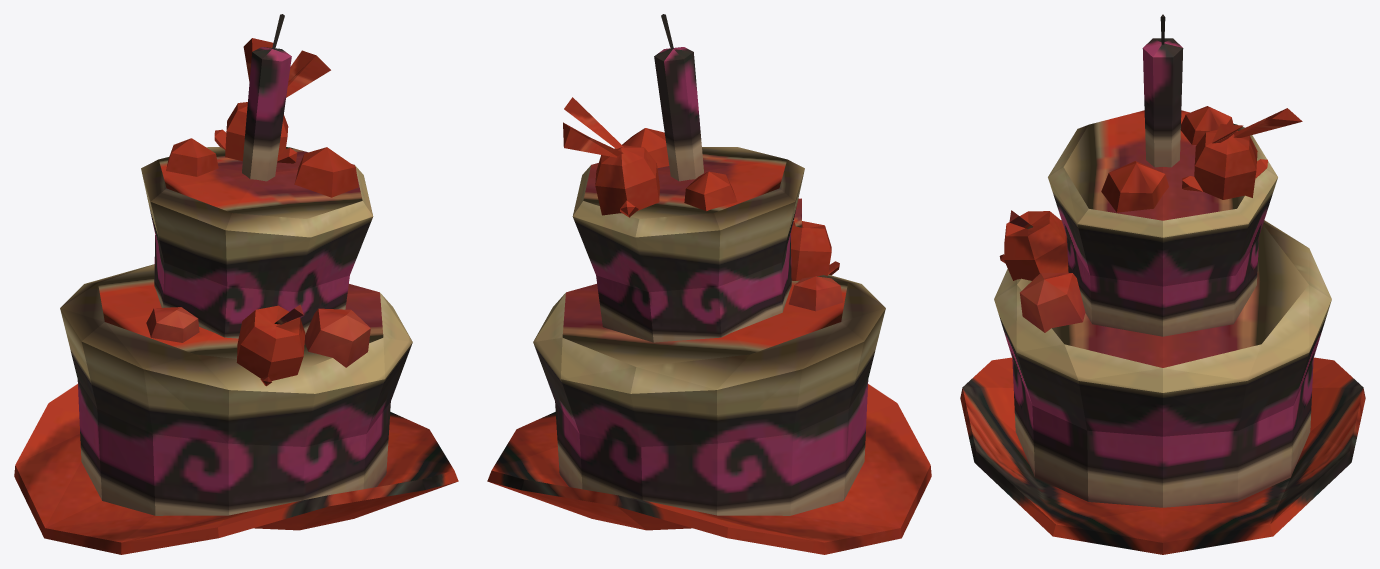
File: Panda_cakeHat.obj
3 views of the same model, side by side, from view 1: azimuth 30°, elevation 25°; view 2: azimuth 150°, elevation 25°; view 3: azimuth 270°, elevation 25° (orthographic).
Visible parts, largest first — view 1: Panda_cakeHat_tri; view 2: Panda_cakeHat_tri; view 3: Panda_cakeHat_tri.
Part boxes in pixels (x1,y1,x2,y2): Panda_cakeHat_tri: (14,14,458,554); Panda_cakeHat_tri: (487,14,931,554); Panda_cakeHat_tri: (960,14,1365,554).
Size of the model in its own units: 0.5563 by 0.6383 by 0.4983.
Materials: 1 (1 with a texture image).
